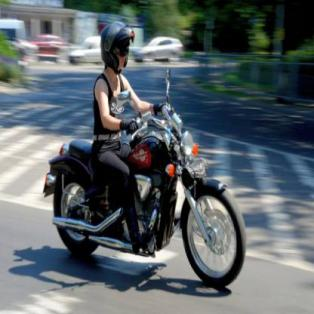Motocicleta: (43, 88, 248, 292)
